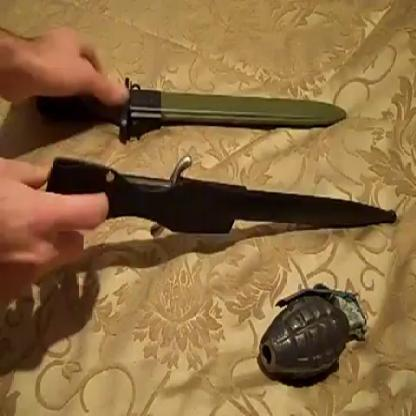Grenade: (256, 282, 369, 387)
Knife: (47, 155, 396, 237), (36, 77, 348, 138)
